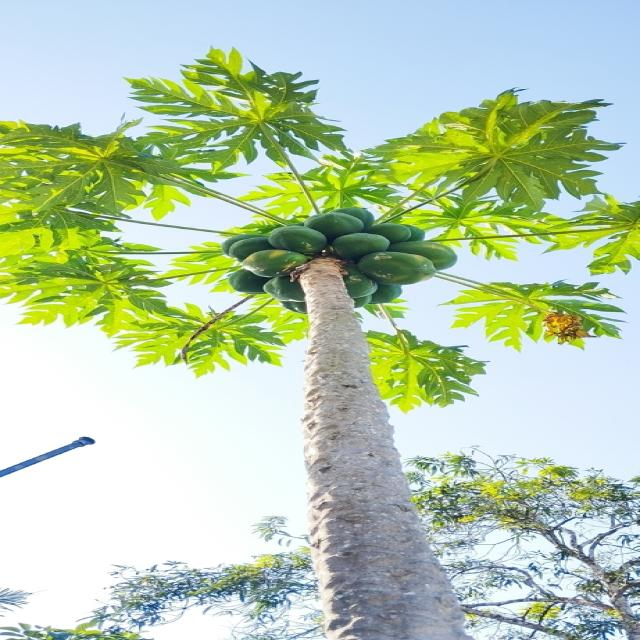Papaya-Tree: (1, 40, 640, 627)
